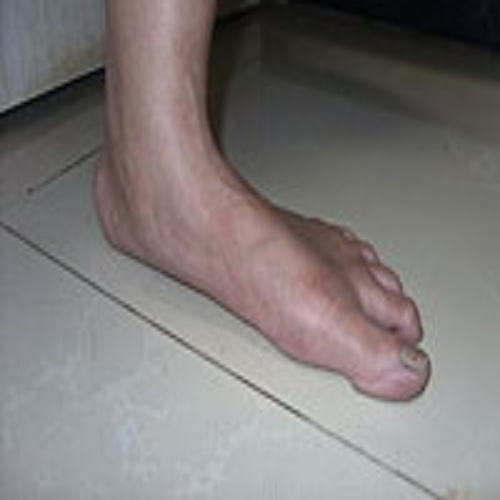3: (355, 309, 425, 402)
4: (96, 163, 154, 252)
Top_Foot: (93, 136, 430, 403)
